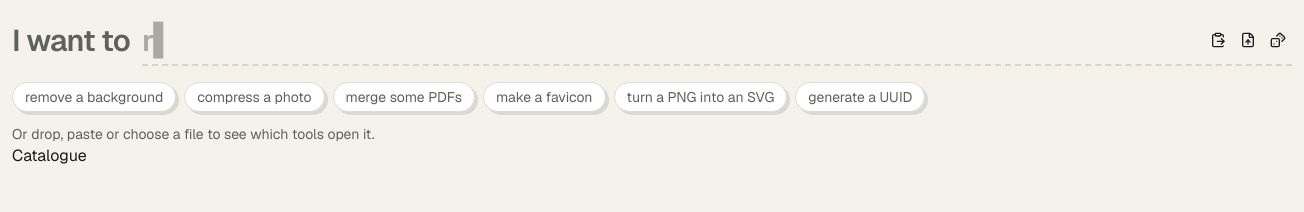
ToolSearch › says so when nothing matches
Type "qwertyzxcv" into the search field named "Search tools" at (671, 40), box [142, 16, 1200, 64]
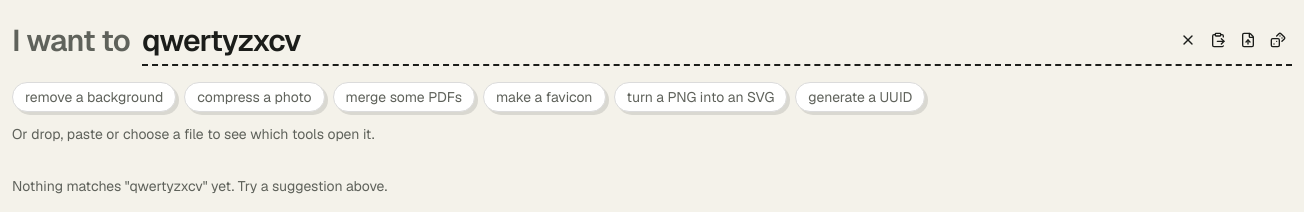
Now the text "Nothing matches \"qwertyzxcv\" yet. Try a suggestion above." is shown, box [12, 177, 387, 195]
